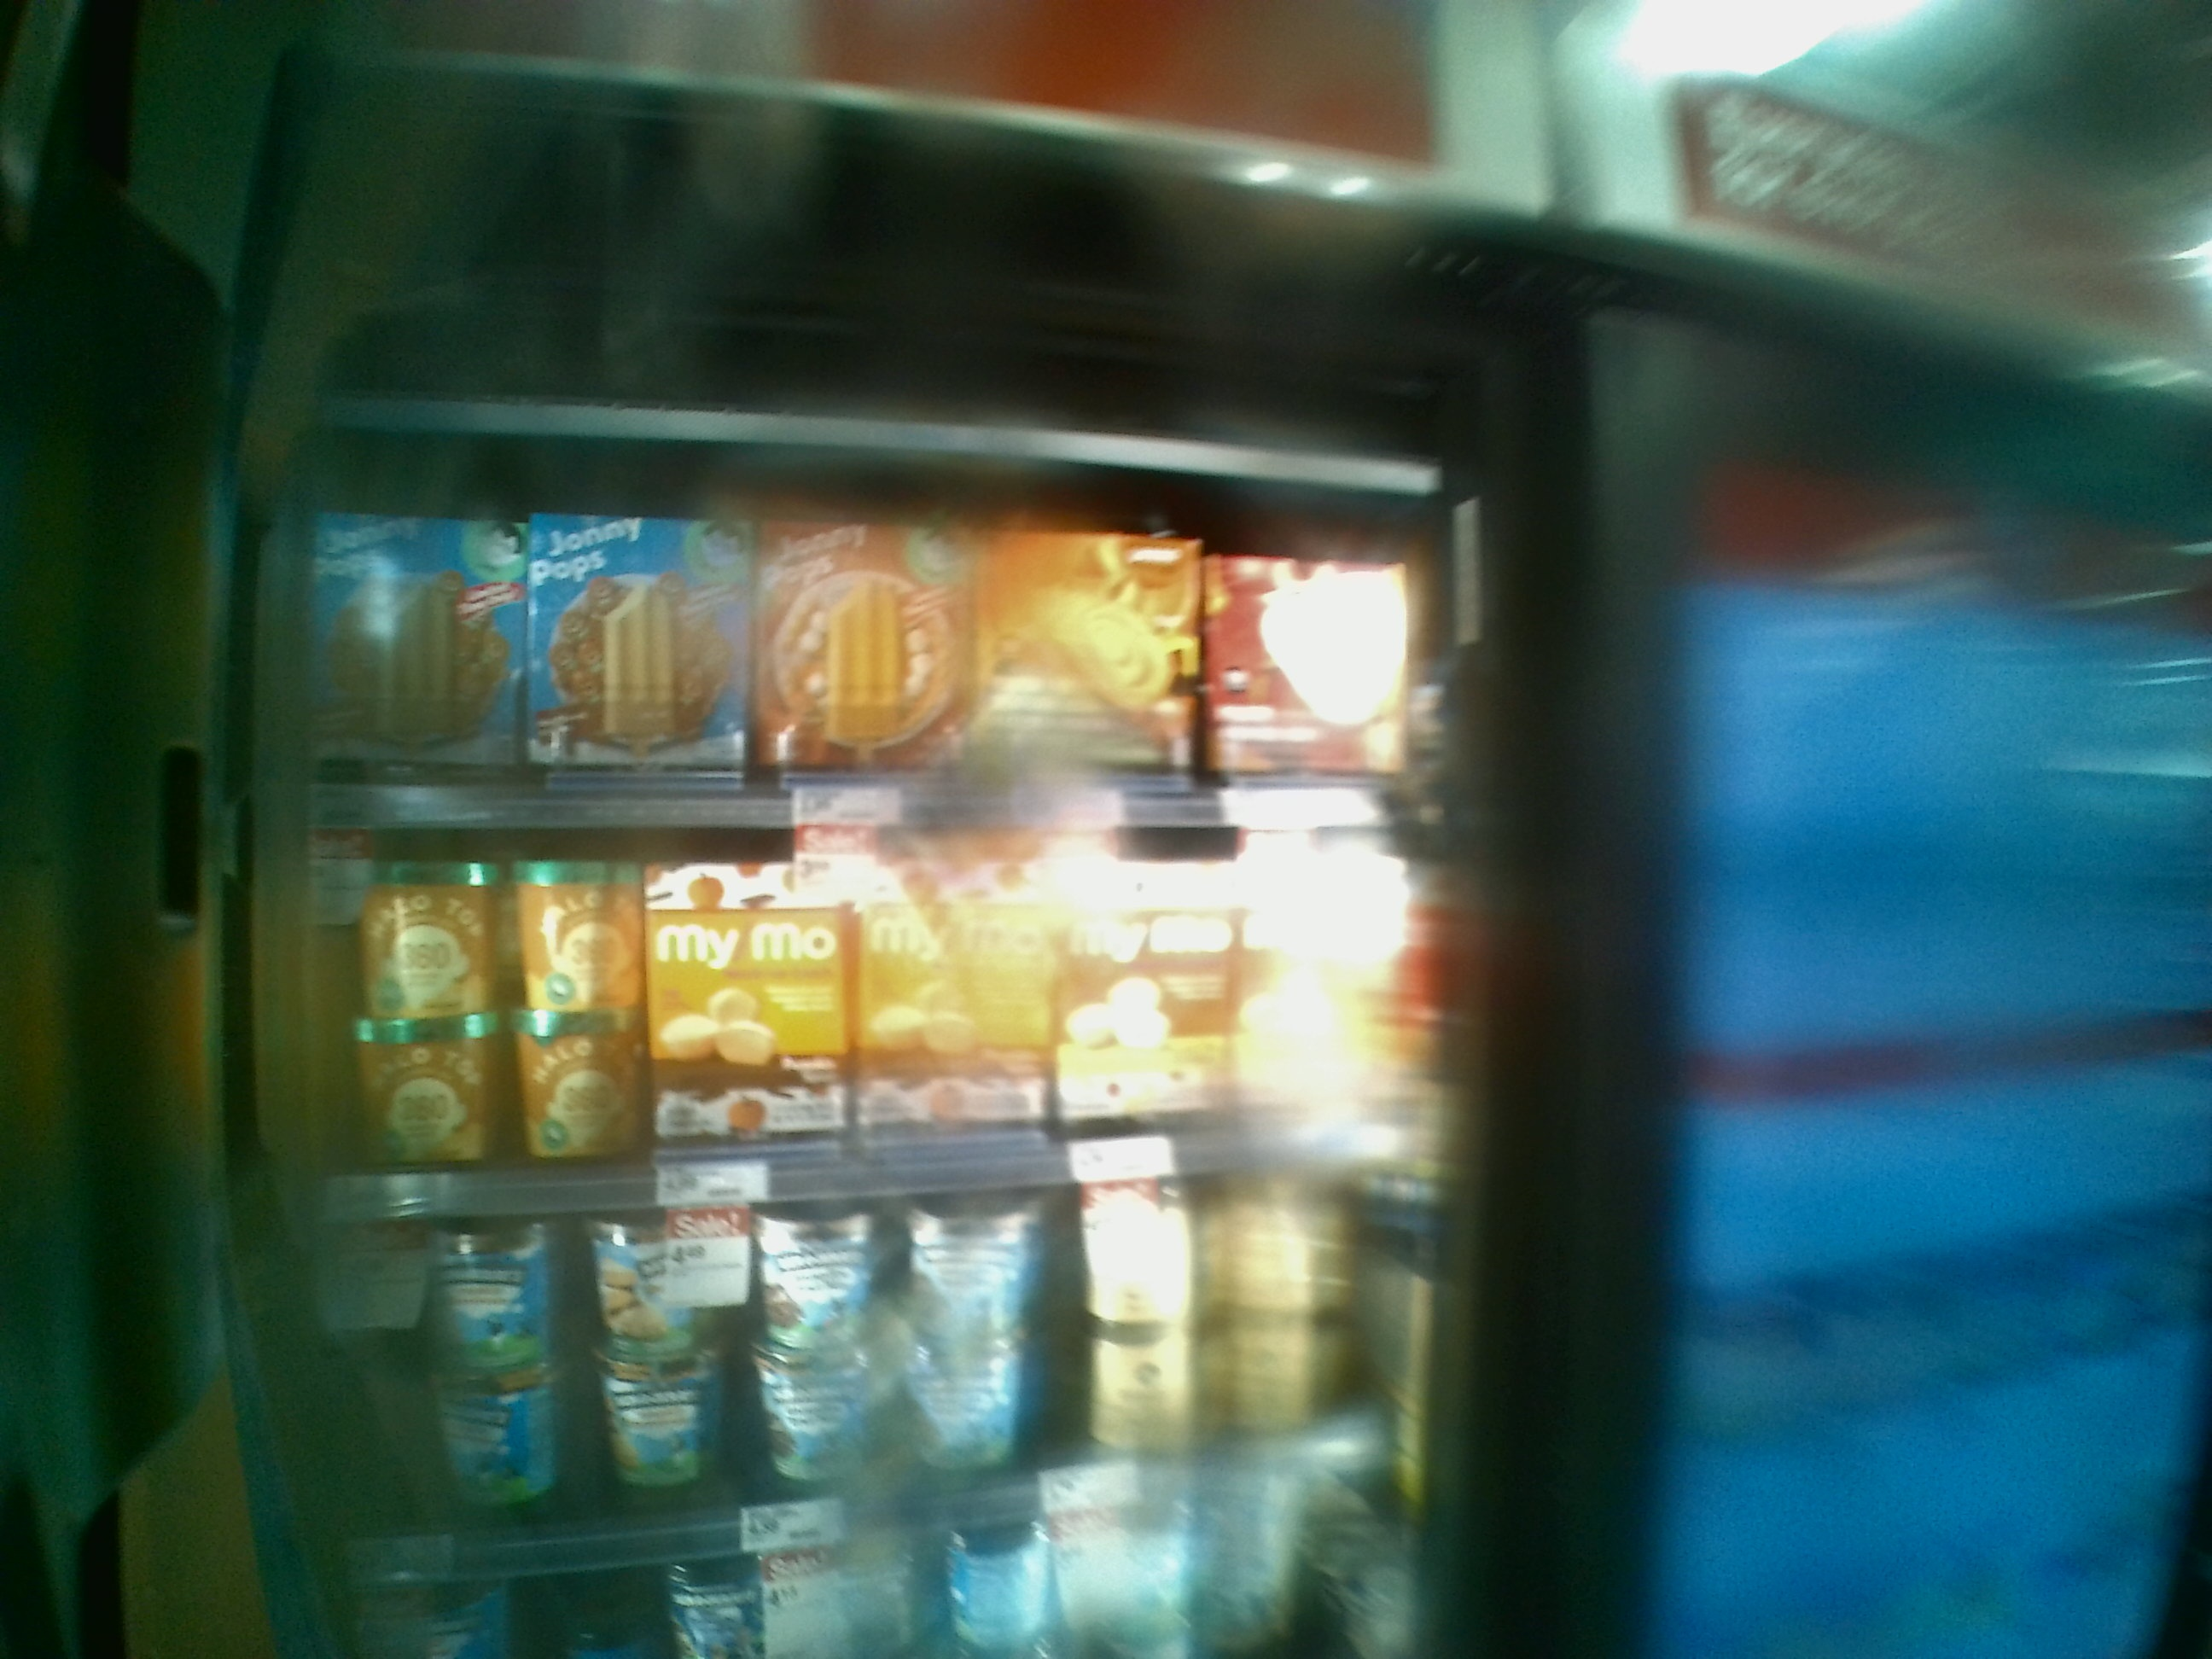shelf: (279, 410, 1463, 826), (275, 793, 1456, 1209), (261, 1185, 1442, 1507)
